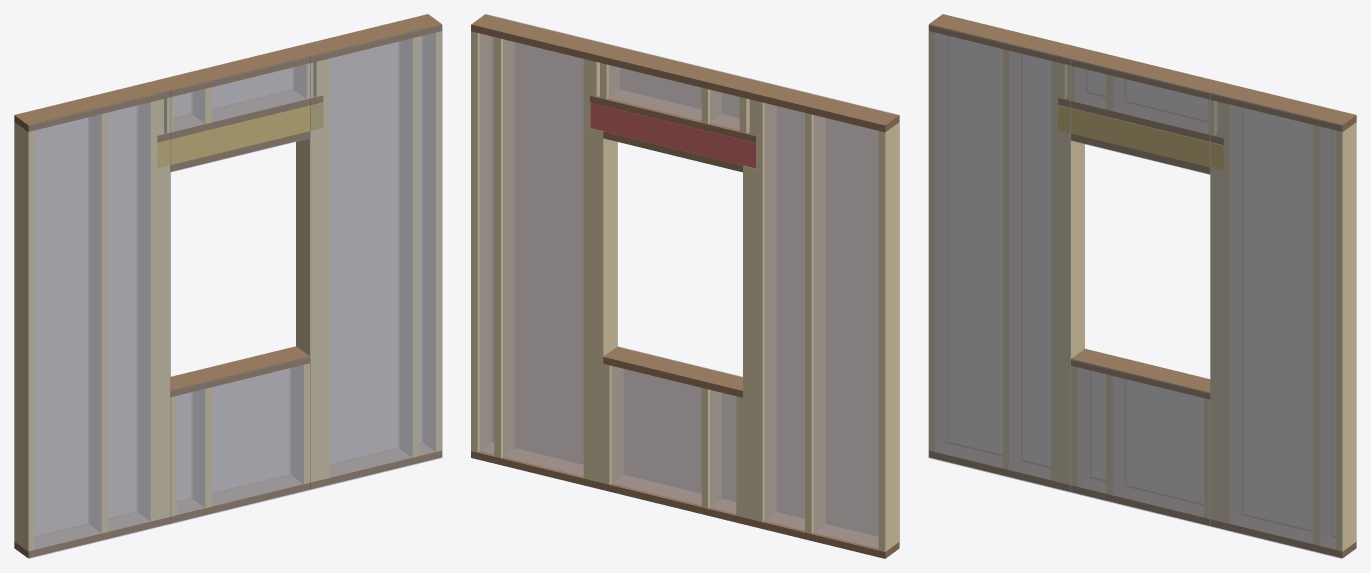
3 renders of one model, left to right at view 1: azimuth 30°, elevation 25°; view 2: azimuth 150°, elevation 25°; view 3: azimuth 330°, elevation 25°, orthographic.
Parts seen in each view (by area): view 1: EX9 FF; view 2: EX9 FF; view 3: EX9 FF.
Boxes of the visible parts, box(x1,y1,x2,y2) form: EX9 FF: box(14, 14, 442, 558); EX9 FF: box(471, 14, 899, 558); EX9 FF: box(928, 14, 1356, 558).
Bounding box in the file's own units: 2.4 × 2.4 × 0.149.
